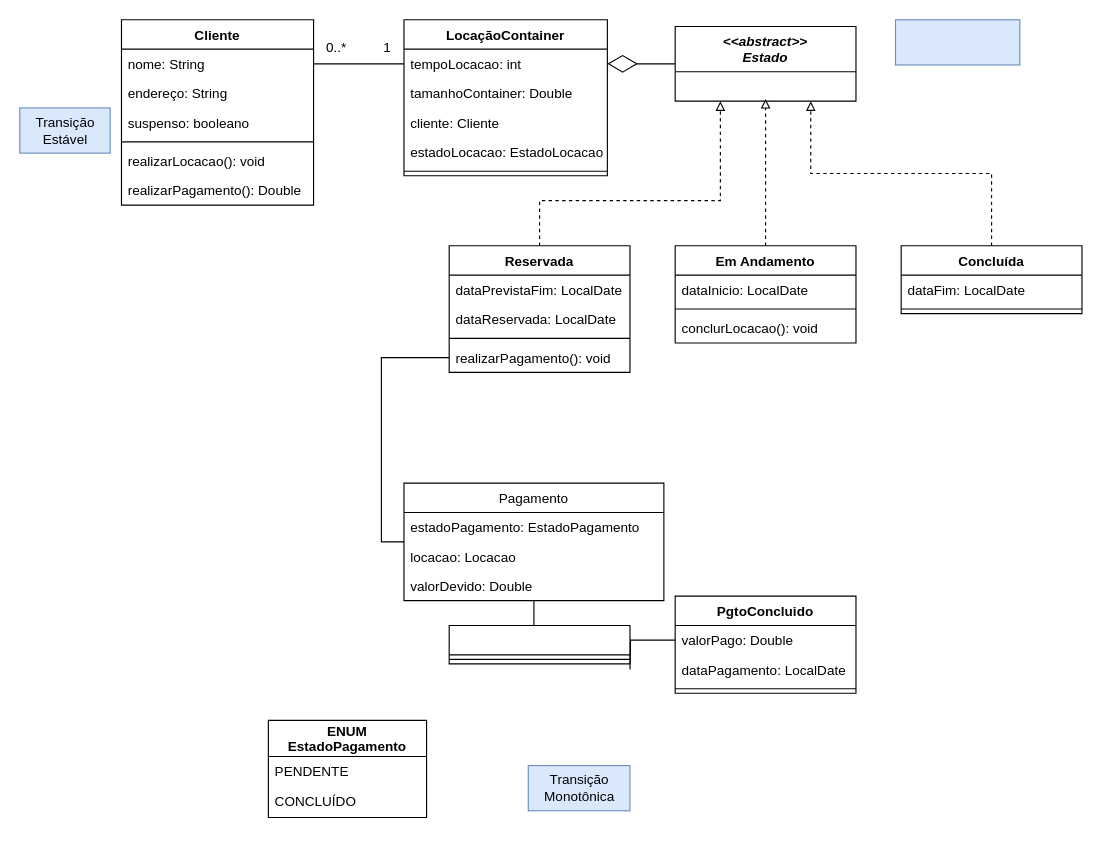
This 1102x841 diagram has some shape labels left out. The shapes that lost their labels are listed below. From the top down, each one's centre as x and y in pixels, then its label:
the point at 957,42: Transição Não-Monotônica
the point at 539,644: PgtoPendente
